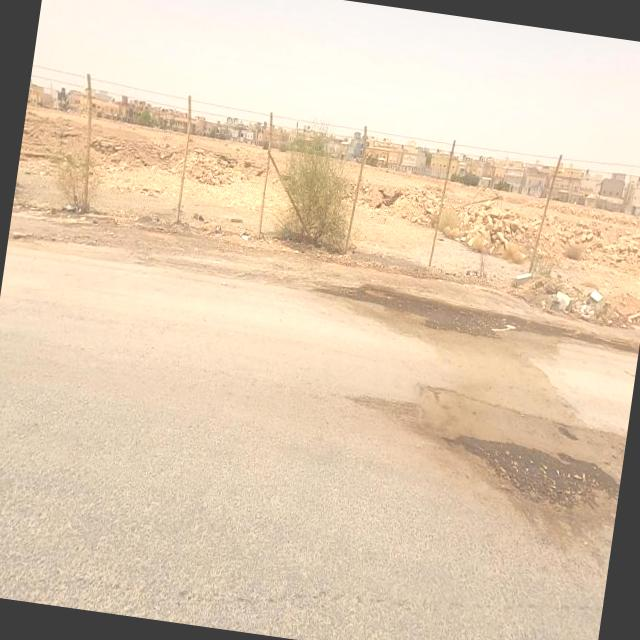debris: (560, 250, 624, 340), (532, 263, 598, 335), (216, 202, 273, 276)
